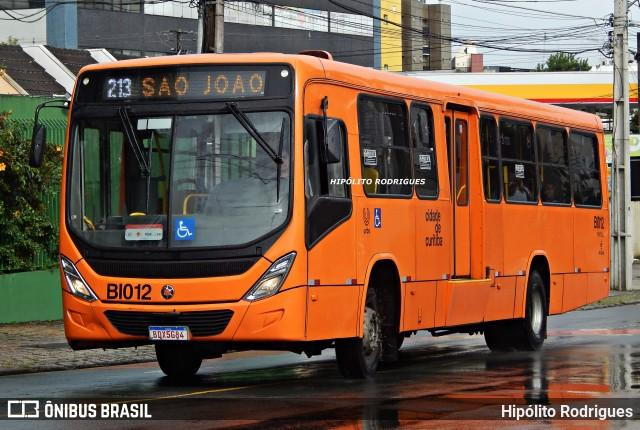SAO JOAO: (137, 70, 267, 99)
